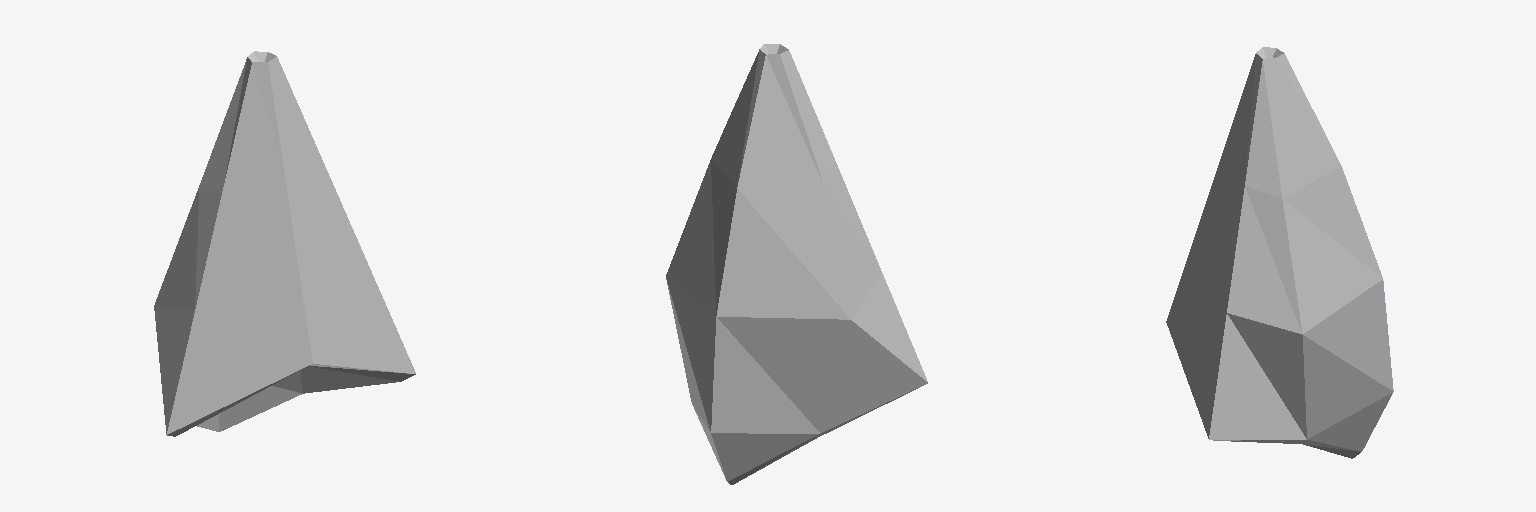
File: Fortune Cookie (R-Smooth).obj
3 views of the same model, side by side, from view 1: azimuth 30°, elevation 25°; view 2: azimuth 150°, elevation 25°; view 3: azimuth 270°, elevation 25° (orthographic).
Visible parts, largest first — view 1: Cylinder; view 2: Cylinder; view 3: Cylinder.
Boxes of the visible parts, <box> form: Cylinder: <box>154,51,415,436</box>; Cylinder: <box>666,44,927,484</box>; Cylinder: <box>1166,47,1393,458</box>.
Bounding box in the file's own units: 1.85 × 2.87 × 1.46.